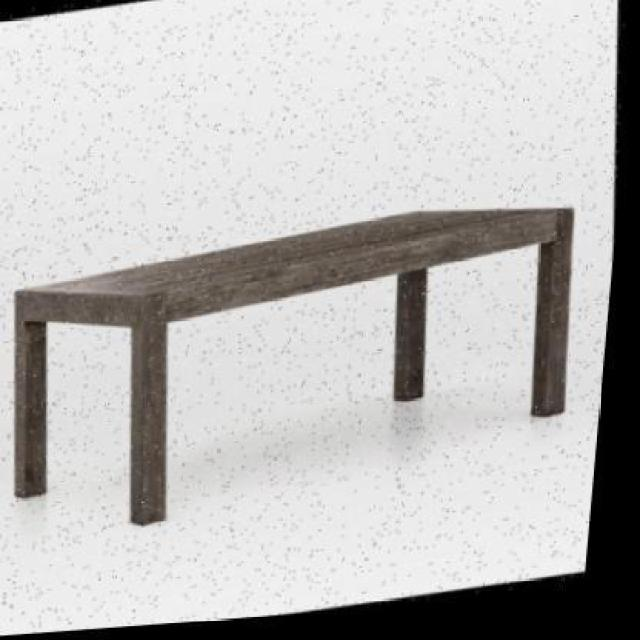tables: (11, 205, 574, 524)
